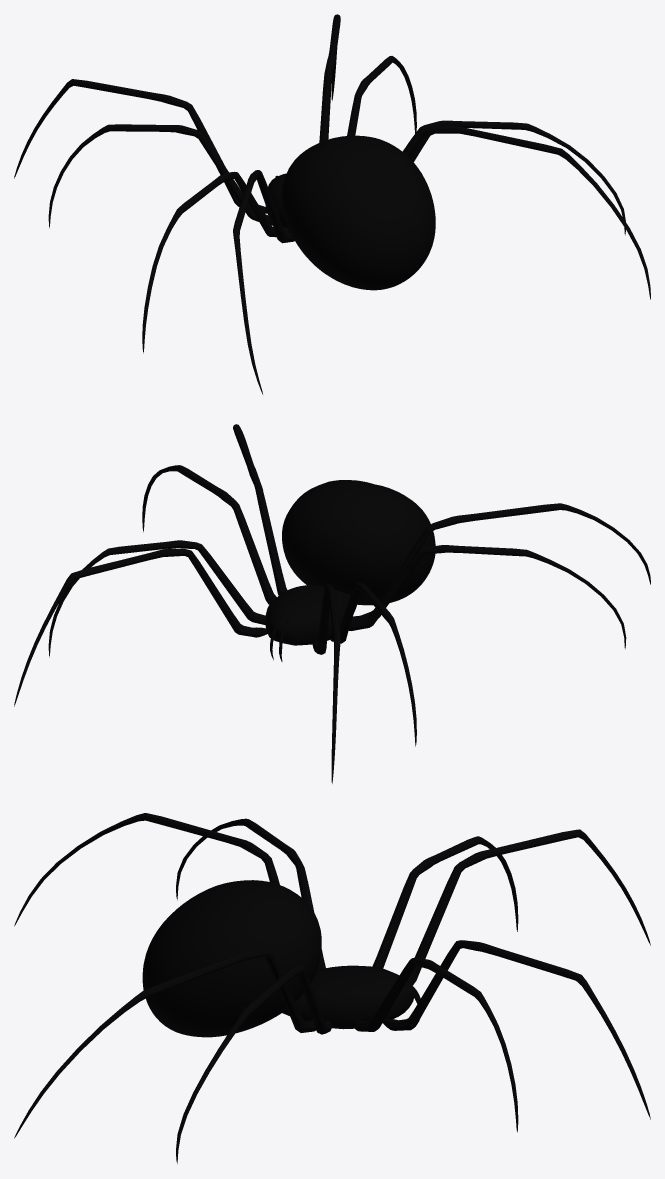
File: widow.fbx
The picture shows the model from 3 angles, top to bottom: view 1: azimuth 30°, elevation 25°; view 2: azimuth 150°, elevation 25°; view 3: azimuth 270°, elevation 25°; orthographic projection. The views are drawn at different scales.
Parts seen in each view (by area): view 1: Abdomen_Cube.001, Legs2_Cube.009, Legs4_Cube.011, Legs1_Cube.008, Legs3_Cube.010; view 2: Abdomen_Cube.001, Legs1_Cube.008, Legs4_Cube.011, Legs2_Cube.009, Legs3_Cube.010, Cephalotorax_Cube; view 3: Abdomen_Cube.001, Legs1_Cube.008, Legs2_Cube.009, Cephalotorax_Cube, Legs3_Cube.010, Legs4_Cube.011.
Part boxes in pixels (x1,y1,x2,y2): Abdomen_Cube.001: (282, 135, 435, 290); Legs2_Cube.009: (233, 125, 650, 394); Legs4_Cube.011: (142, 120, 625, 353); Legs1_Cube.008: (14, 14, 340, 213); Legs3_Cube.010: (48, 56, 416, 228); Abdomen_Cube.001: (282, 480, 435, 605); Legs1_Cube.008: (14, 548, 340, 783); Legs4_Cube.011: (142, 465, 626, 649); Legs2_Cube.009: (233, 424, 650, 621); Legs3_Cube.010: (48, 540, 416, 746); Cephalotorax_Cube: (265, 584, 358, 645); Abdomen_Cube.001: (142, 880, 321, 1037); Legs1_Cube.008: (383, 829, 650, 1119); Legs2_Cube.009: (14, 813, 315, 1138); Cephalotorax_Cube: (282, 965, 414, 1029); Legs3_Cube.010: (353, 836, 518, 1132); Legs4_Cube.011: (176, 818, 332, 1163).
Size of the model in its own units: 256 by 64.23 by 261.
Materials: 5 (1 with a texture image).
